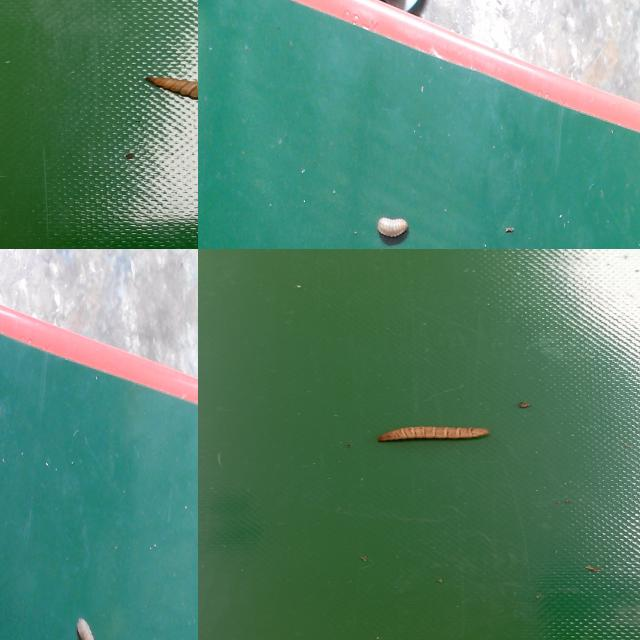Maggot: (377, 427, 489, 445), (146, 74, 198, 103), (375, 216, 410, 246), (76, 619, 97, 640)
